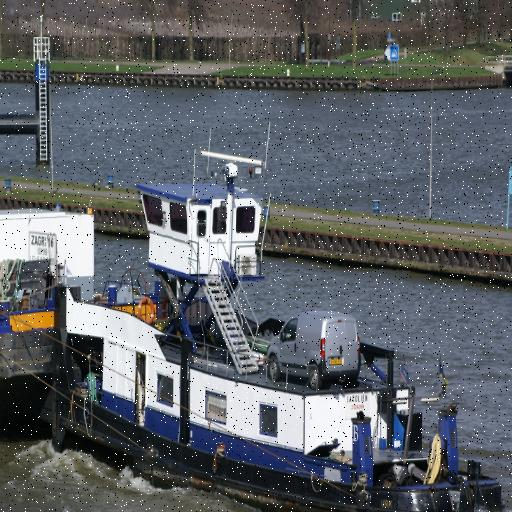tugboat: (47, 120, 510, 512)
